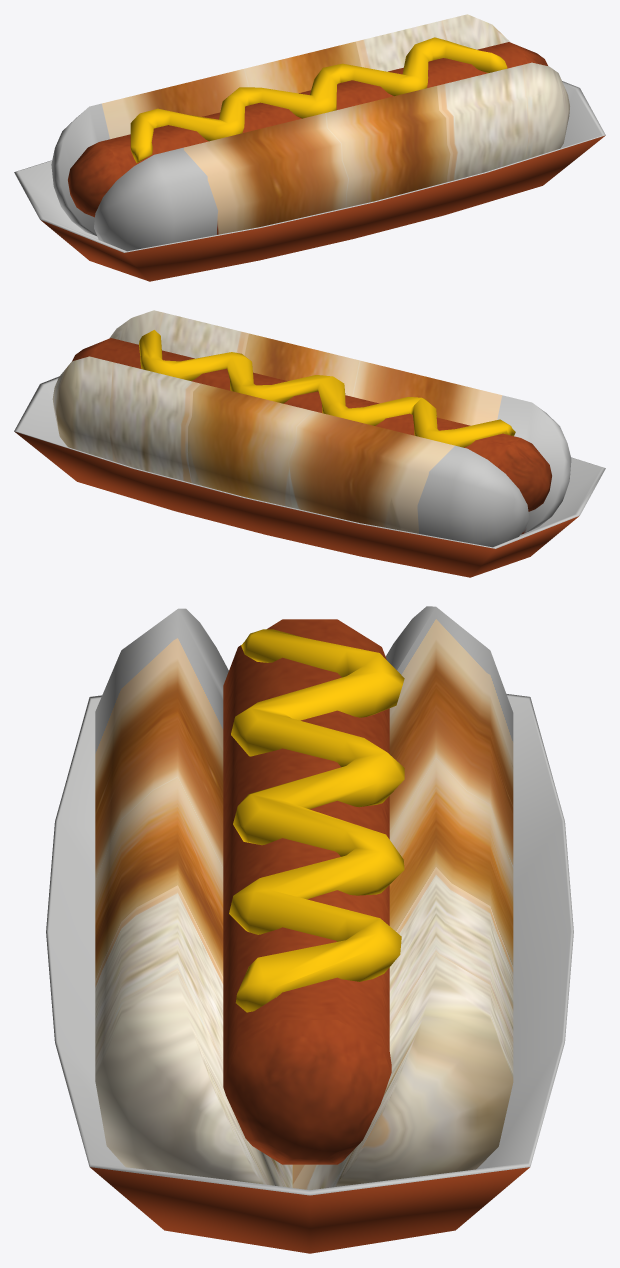
The model's file is hotdog.dae.
3 renders of one model, top to bottom at view 1: azimuth 30°, elevation 25°; view 2: azimuth 150°, elevation 25°; view 3: azimuth 270°, elevation 25°, orthographic. The views are drawn at different scales.
Parts seen in each view (by area): view 1: Hotdog; view 2: Hotdog; view 3: Hotdog.
Part boxes in pixels (box(x1,y1,x2,y2)): Hotdog: box(14, 14, 605, 281); Hotdog: box(14, 310, 605, 577); Hotdog: box(46, 606, 573, 1253).
Size of the model in its own units: 0.5983 by 0.2533 by 0.1309.
Materials: 1 (1 with a texture image).
